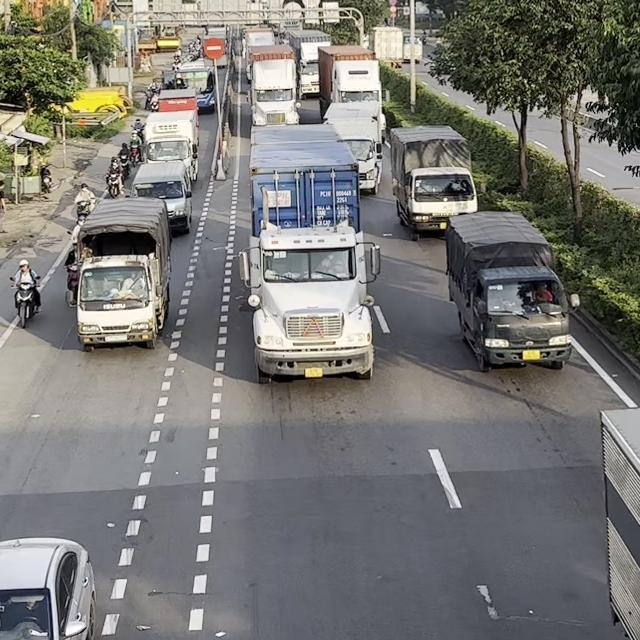bus: (173, 60, 215, 113)
car: (0, 536, 96, 639), (130, 159, 192, 234)
motorcycle: (8, 275, 41, 328), (65, 263, 80, 307), (74, 197, 96, 225), (104, 170, 122, 198)
truck: (238, 120, 381, 384), (444, 209, 579, 372), (69, 195, 172, 351), (388, 123, 478, 241), (598, 406, 639, 639), (322, 100, 385, 194), (318, 44, 382, 120), (247, 44, 300, 126), (141, 109, 199, 183), (286, 28, 332, 100), (242, 27, 276, 83)
